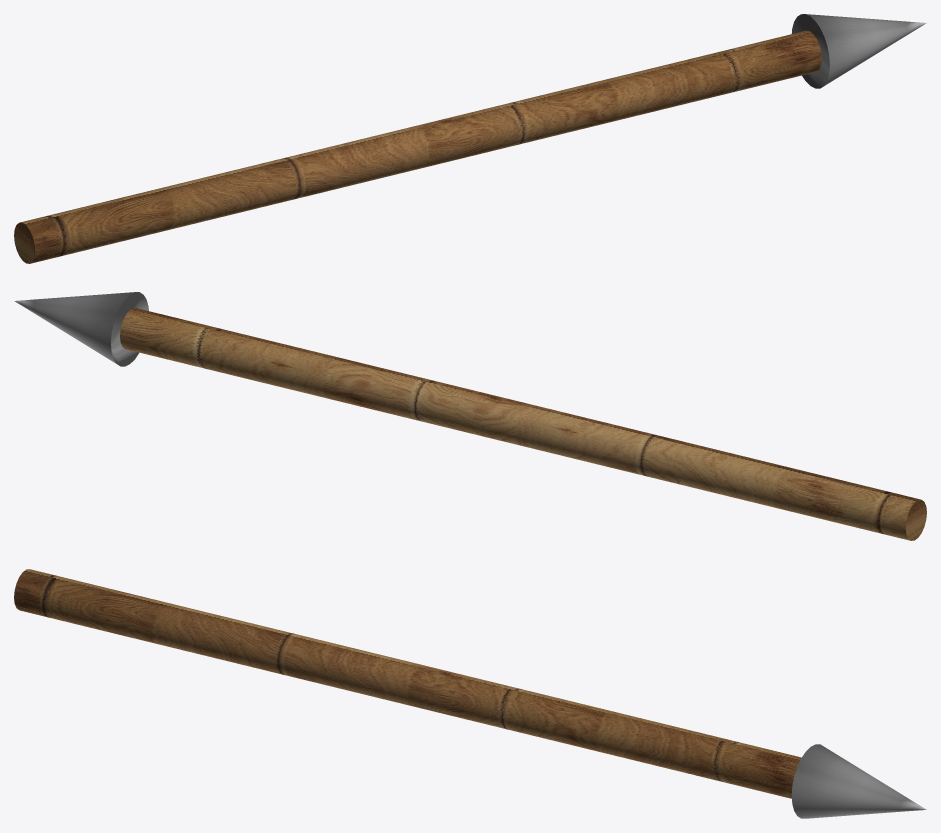
The model's file is arrow.FBX.
The picture shows the model from 3 angles, top to bottom: view 1: azimuth 30°, elevation 25°; view 2: azimuth 150°, elevation 25°; view 3: azimuth 330°, elevation 25°; orthographic projection.
Visible parts, largest first — view 1: Cylinder001; view 2: Cylinder001; view 3: Cylinder001.
Boxes of the visible parts, x1,y1,x2,y2 form: Cylinder001: [14, 14, 926, 263]; Cylinder001: [14, 292, 926, 540]; Cylinder001: [14, 569, 926, 818].
Size of the model in its own units: 12.64 by 0.9323 by 0.9323.
